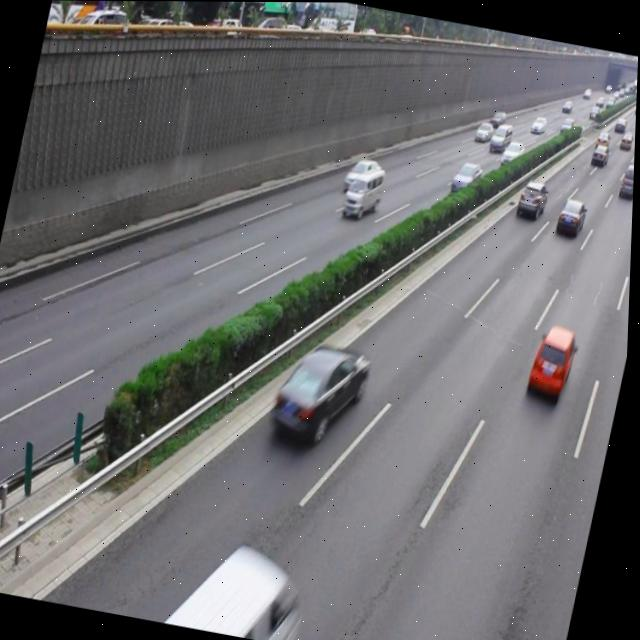car: (269, 335, 375, 451), (526, 321, 581, 397), (514, 176, 550, 221), (343, 153, 382, 193), (555, 194, 589, 238), (449, 157, 483, 196)
truck: (341, 164, 387, 220)
